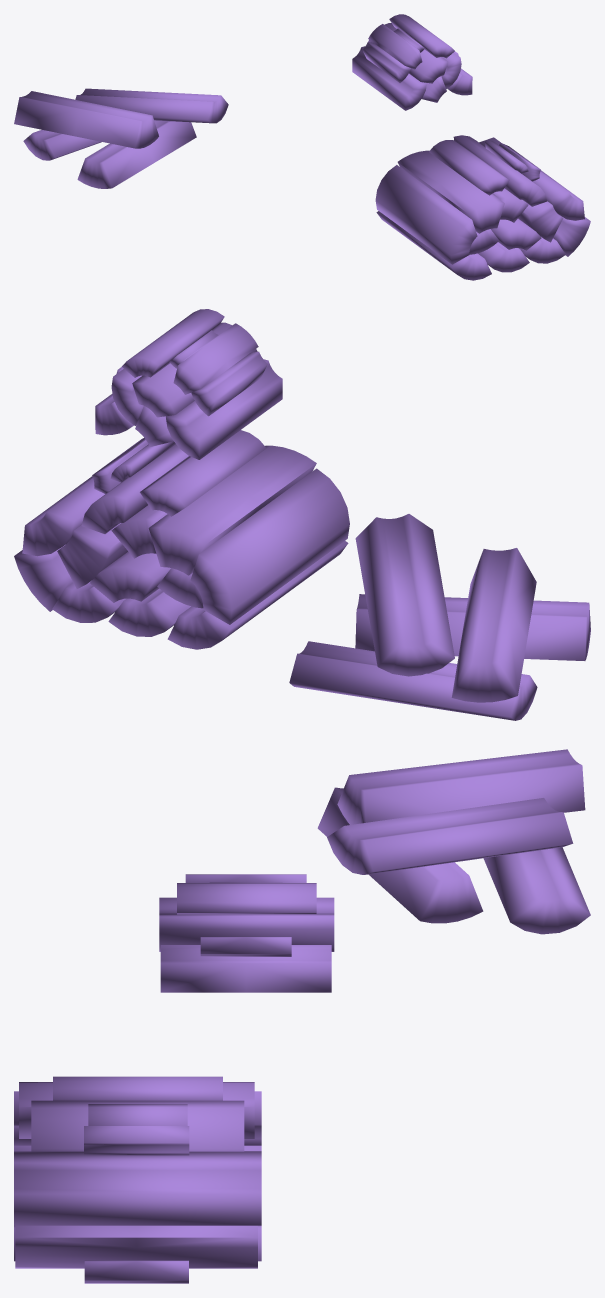
Rendered from wood.fbx.
The picture shows the model from 3 angles, top to bottom: view 1: azimuth 30°, elevation 25°; view 2: azimuth 150°, elevation 25°; view 3: azimuth 270°, elevation 25°; orthographic projection. The views are drawn at different scales.
Visible parts, largest first — view 1: wood; view 2: wood; view 3: wood.
Part boxes in pixels (x1,y1,x2,y2): wood: (14,14,590,280); wood: (14,309,590,720); wood: (14,749,590,1283).
Size of the model in its own units: 281 by 127 by 207.
